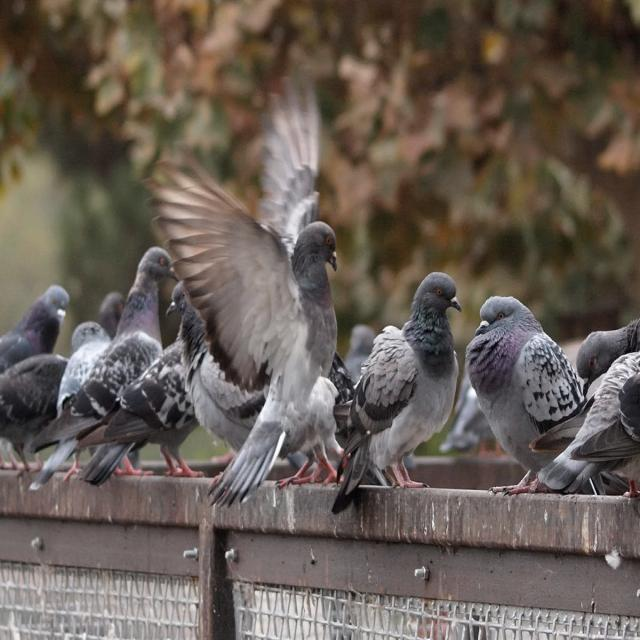pigeon: (155, 78, 337, 506), (30, 247, 171, 489), (334, 272, 461, 511), (466, 296, 587, 494), (490, 346, 640, 496), (76, 336, 199, 484), (166, 282, 266, 450), (1, 285, 69, 373), (577, 319, 640, 390)
